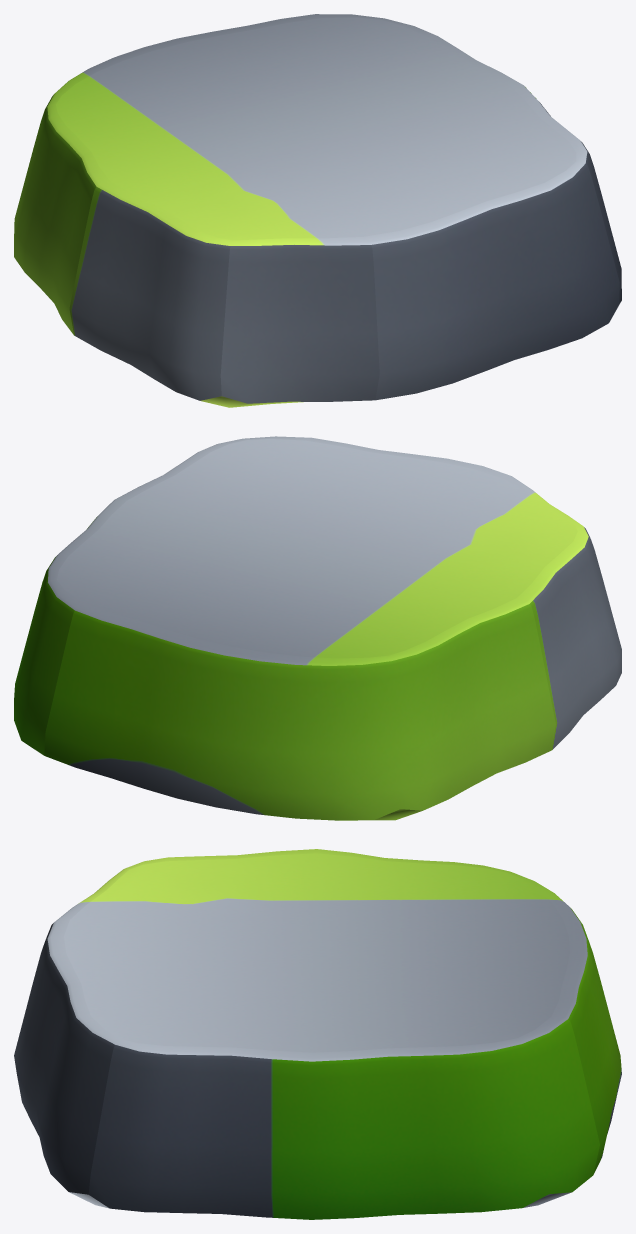
File: Island1.FBX
The picture shows the model from 3 angles, top to bottom: view 1: azimuth 30°, elevation 25°; view 2: azimuth 150°, elevation 25°; view 3: azimuth 270°, elevation 25°; orthographic projection. The views are drawn at different scales.
Parts seen in each view (by area): view 1: Plane.001; view 2: Plane.001; view 3: Plane.001.
Part boxes in pixels (x1,y1,x2,y2): Plane.001: (14,14,621,407); Plane.001: (14,436,621,820); Plane.001: (14,849,621,1219).
Size of the model in its own units: 43.23 by 13.41 by 46.42.
